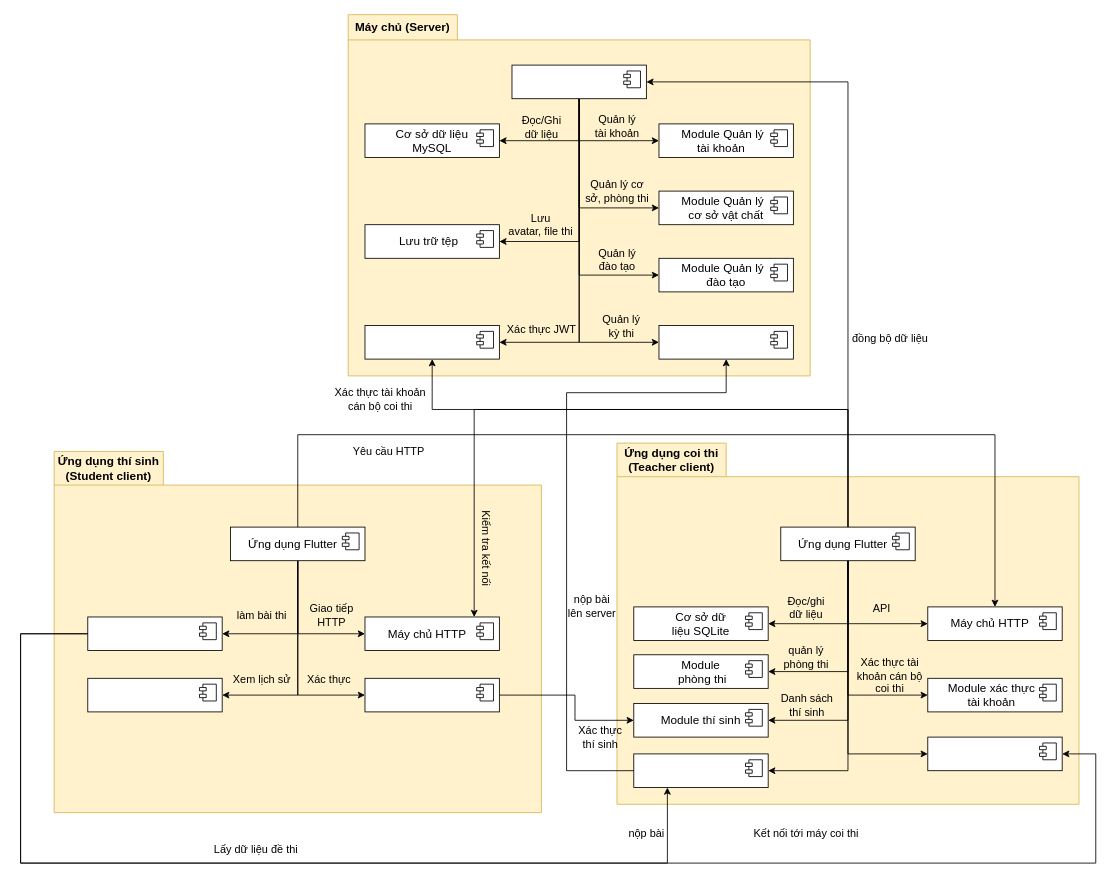
Image size: 1117x885. Some labels were removed from this diagram. The centre of each missing label's shape, as x and y in pixels:
"API Laravel" goes at (x=578, y=81).
"Dịch vụ xác thực JWT" goes at (x=431, y=342).
"Module kết quả bài thi" goes at (x=700, y=770).
"Module làm bài" goes at (x=154, y=633).
"Module lịch sử làm bài" goes at (x=154, y=694).
"Module Quản lý kỳ thi" goes at (x=725, y=342).
"Module xác thực thí sinh" goes at (x=431, y=694).
"Module đề thi" goes at (x=994, y=753).
